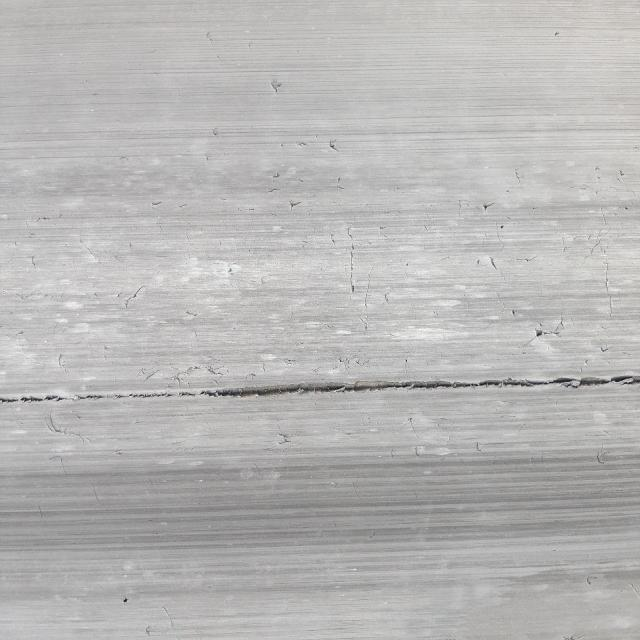Puncture: (528, 326, 550, 342)
Tear: (0, 368, 640, 409)
